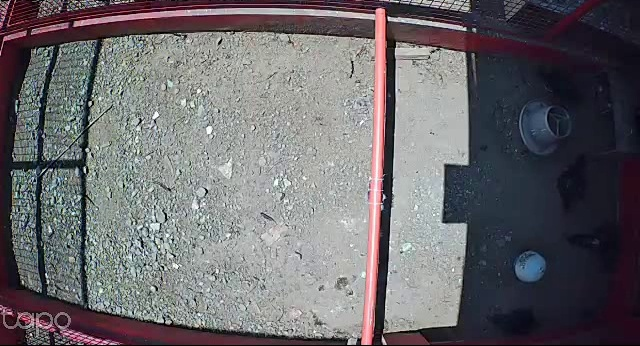Chicken: (554, 152, 592, 217)
Drinker: (518, 98, 573, 157)
Feeder: (510, 248, 550, 284)
